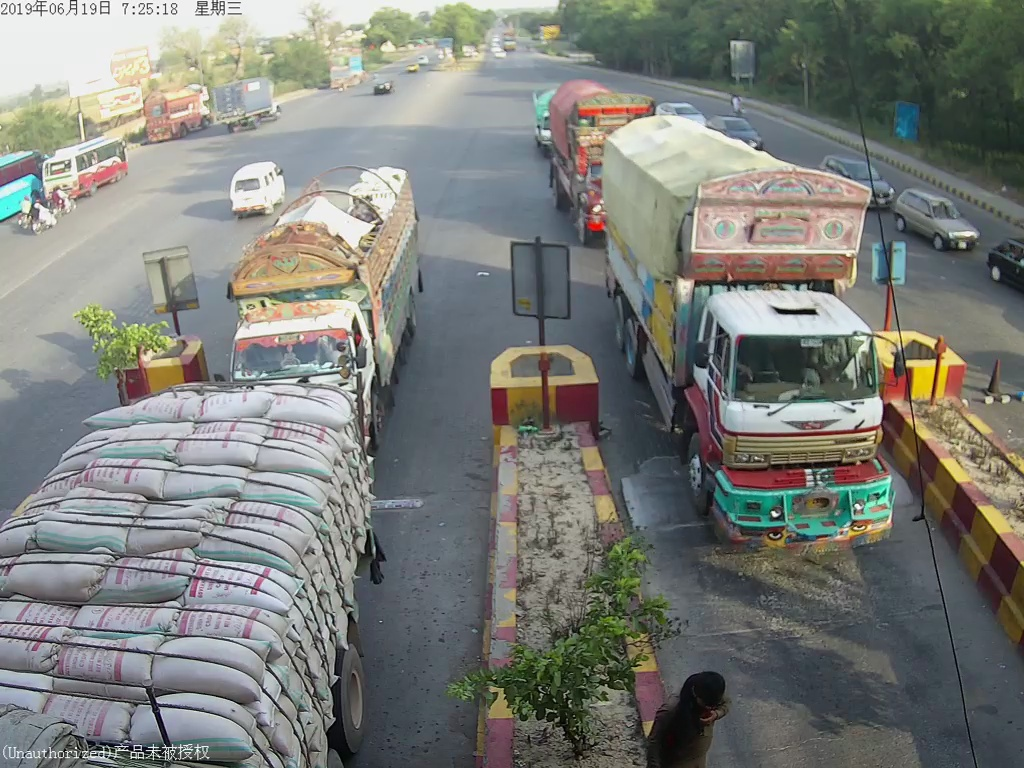Cat-4: (592, 125, 909, 547), (222, 203, 398, 369)
